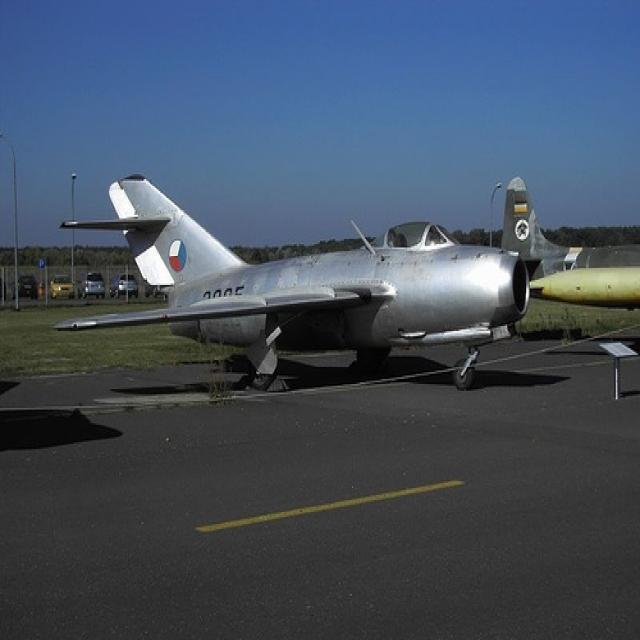aeroplane: (51, 172, 530, 388), (503, 174, 639, 309)
car: (111, 272, 141, 300), (81, 272, 106, 300), (50, 276, 75, 300)
